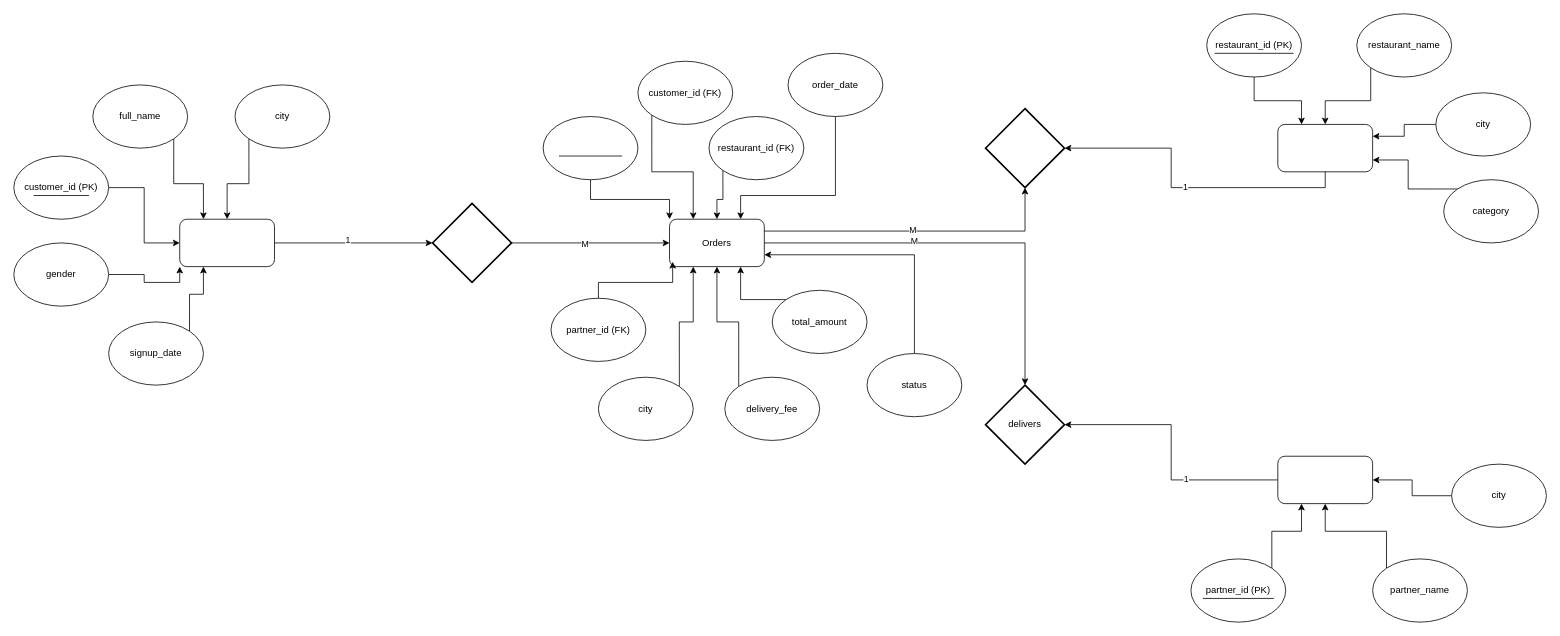
The diagram is 1560 pixels wide and 636 high, and some of its shapes have lost their labels. Here are the shapes that lost their labels. From the top down, the centre of each, then its label:
(x=590, y=148): order_id (PK)
(x=1024, y=147): receives
(x=1325, y=148): Restaurants
(x=227, y=242): Customers
(x=471, y=242): places
(x=1325, y=479): DeliveryPartners
